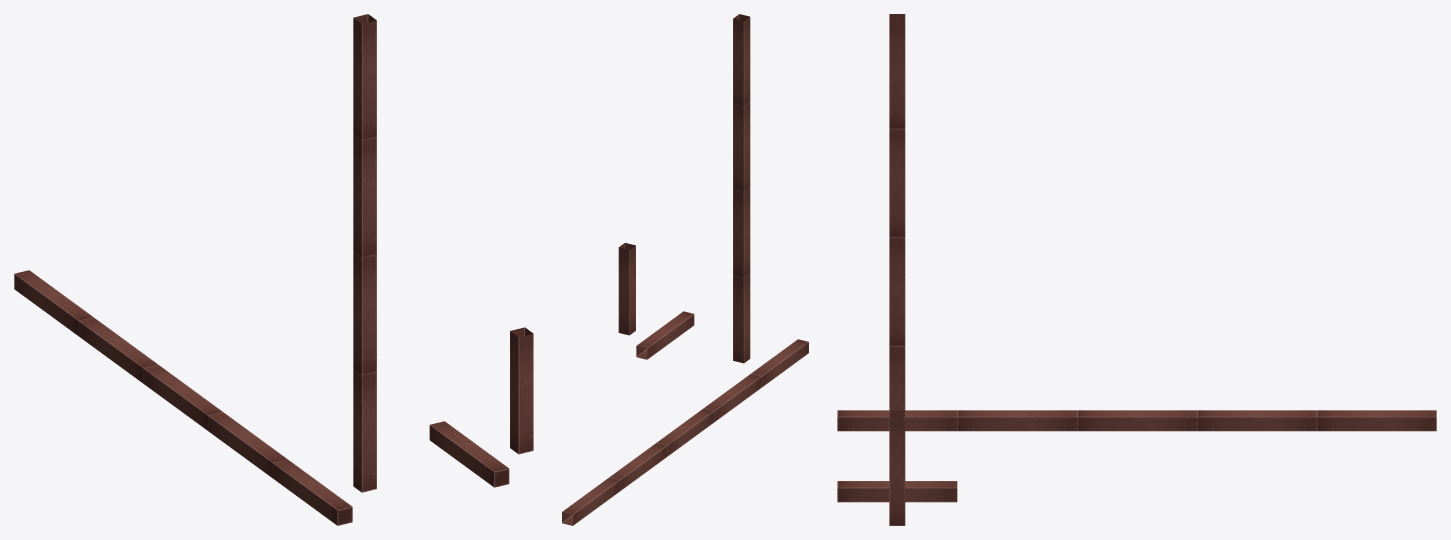
The model's file is Columna_Comp.fbx.
The picture shows the model from 3 angles, left to right: view 1: azimuth 30°, elevation 25°; view 2: azimuth 150°, elevation 25°; view 3: azimuth 270°, elevation 25°; orthographic projection. The views are drawn at different scales.
Parts seen in each view (by area): view 1: Columna_Vertical_Set, Columna_Horizontal_Set, Columna_Vertical, Columna_Horizontal; view 2: Columna_Vertical_Set, Columna_Horizontal_Set, Columna_Vertical, Columna_Horizontal; view 3: Columna_Horizontal_Set, Columna_Vertical_Set, Columna_Horizontal, Columna_Vertical.
Boxes of the visible parts, box(x1,y1,x2,y2) form: Columna_Vertical_Set: box(353, 14, 376, 492); Columna_Horizontal_Set: box(14, 270, 352, 525); Columna_Vertical: box(510, 327, 533, 454); Columna_Horizontal: box(429, 421, 509, 487); Columna_Vertical_Set: box(733, 14, 750, 363); Columna_Horizontal_Set: box(562, 339, 808, 525); Columna_Vertical: box(618, 243, 635, 335); Columna_Horizontal: box(636, 311, 694, 359); Columna_Horizontal_Set: box(837, 410, 1436, 431); Columna_Vertical_Set: box(889, 14, 905, 410); Columna_Horizontal: box(837, 481, 957, 502); Columna_Vertical: box(889, 410, 905, 525).
Bounding box in the file's own units: 3000 × 6000 × 7500.
1 material, 1 textured.
